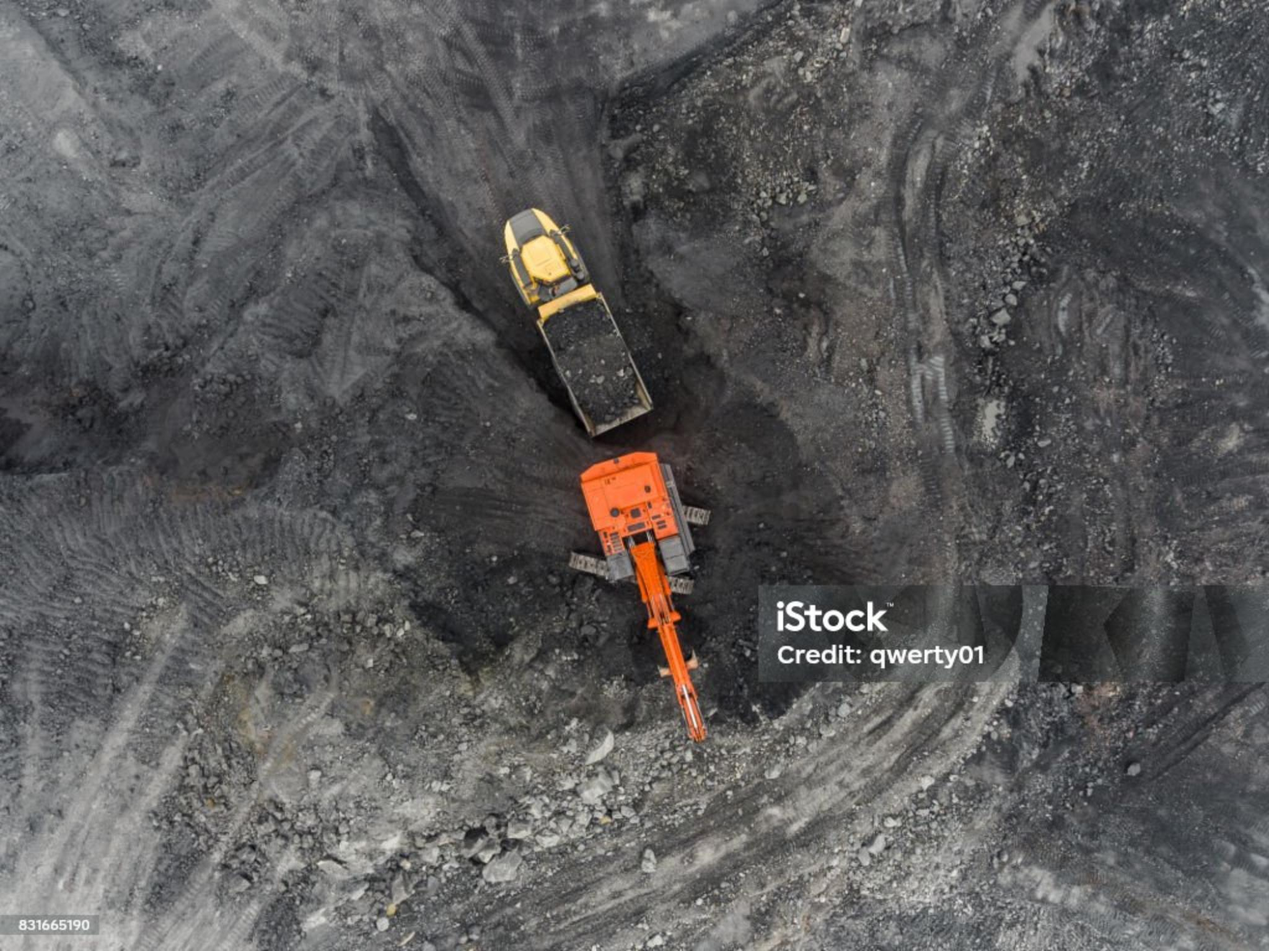excavator: (574, 448, 723, 754)
truck: (485, 203, 675, 434)
